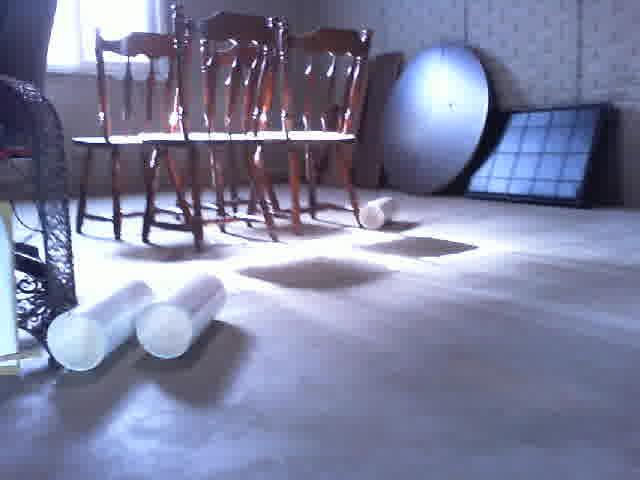coral: (41, 274, 155, 375), (135, 270, 228, 363), (356, 195, 400, 230)
